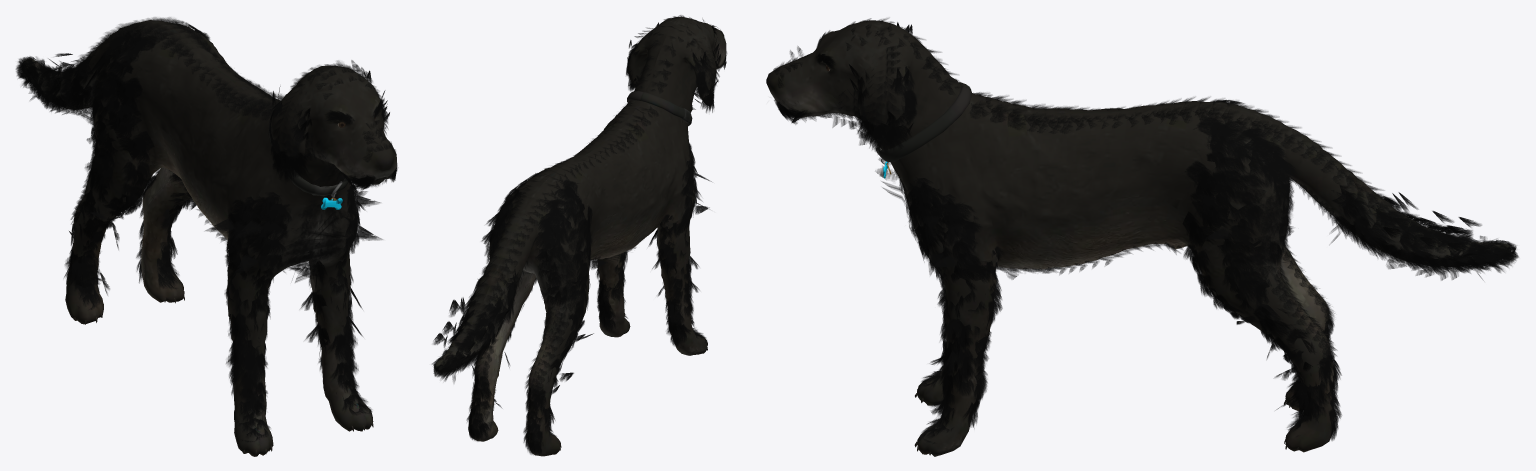
The model's file is dog-labradoodle.glb.
3 views of the same model, side by side, from view 1: azimuth 30°, elevation 25°; view 2: azimuth 150°, elevation 25°; view 3: azimuth 270°, elevation 25° (orthographic). The views are drawn at different scales.
Parts seen in each view (by area): view 1: Riley_02___Default_0, Object058_10___Default_0; view 2: Riley_02___Default_0, Object058_10___Default_0; view 3: Riley_02___Default_0, Object058_10___Default_0.
Boxes of the visible parts, x1,y1,x2,y2 form: Riley_02___Default_0: (23,20,396,456); Object058_10___Default_0: (16,17,397,442); Riley_02___Default_0: (434,17,726,456); Object058_10___Default_0: (431,15,726,455); Riley_02___Default_0: (766,20,1510,456); Object058_10___Default_0: (773,18,1518,443).
Size of the model in its own units: 0.1815 by 0.4129 by 0.7.
3 materials, 3 textured.
